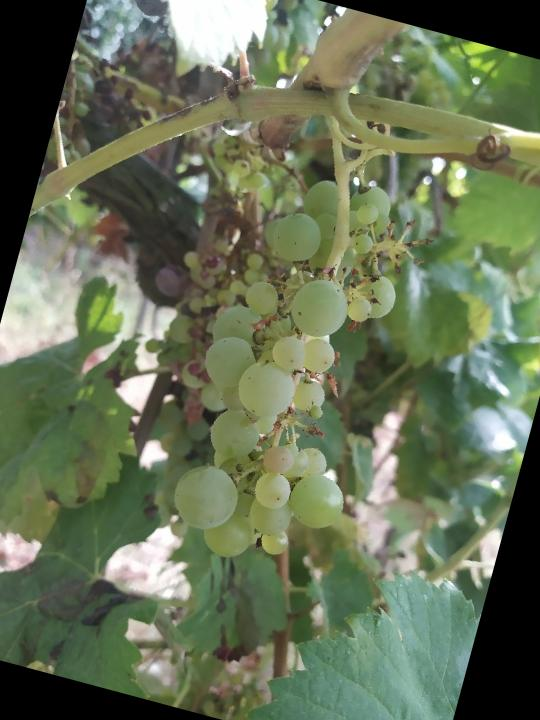grape: (151, 148, 429, 587)
